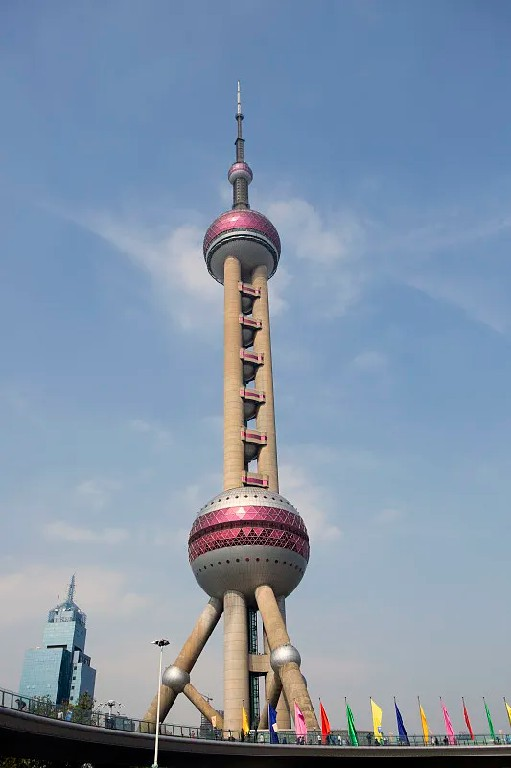Oriental: (143, 82, 319, 729)
